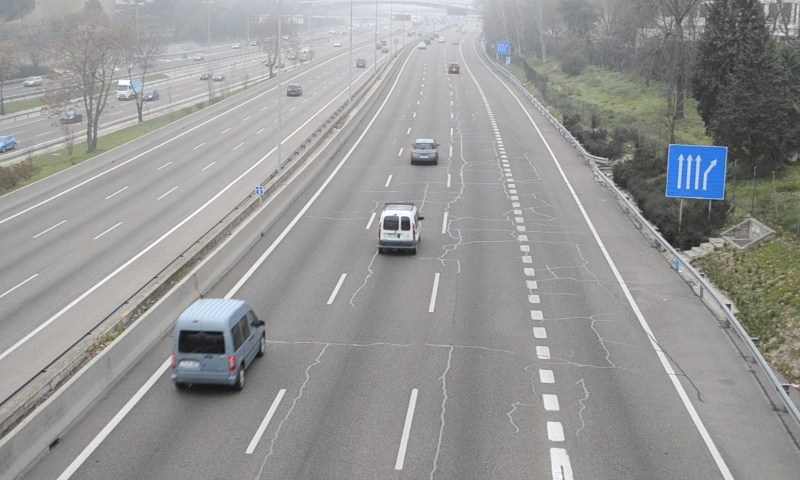car: (410, 138, 438, 165)
van: (172, 300, 264, 386), (378, 203, 421, 252)
